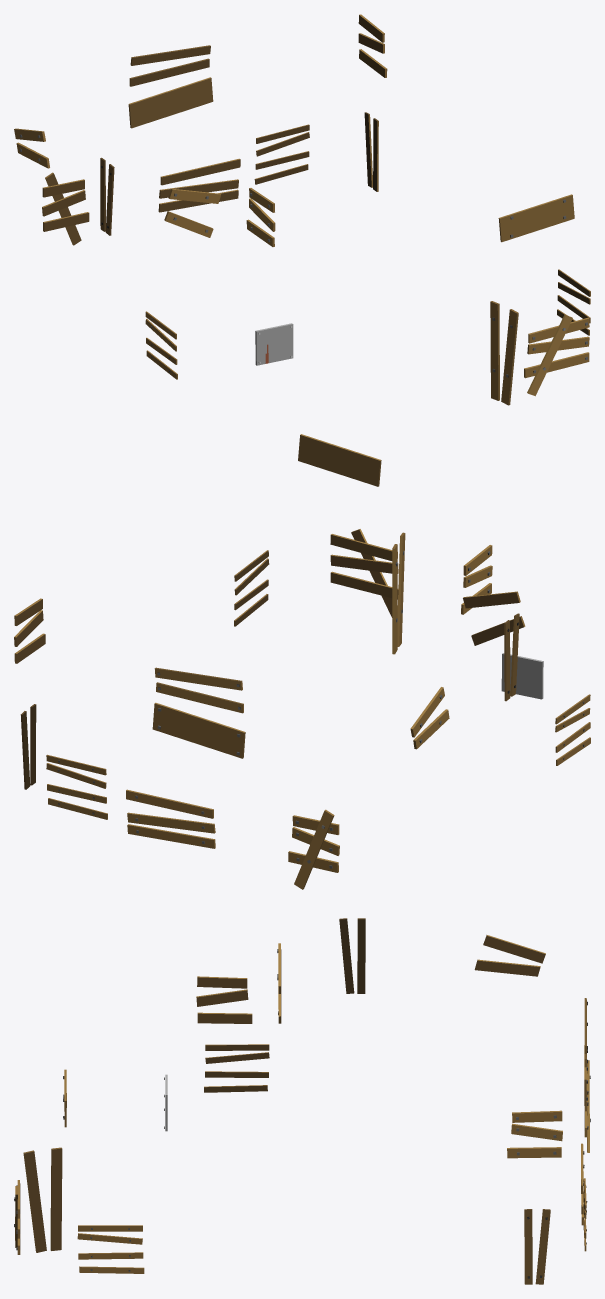
The model's file is SA_Bld_HouseLarge_Extras_02.gltf.
The picture shows the model from 3 angles, top to bottom: view 1: azimuth 30°, elevation 25°; view 2: azimuth 150°, elevation 25°; view 3: azimuth 270°, elevation 25°; orthographic projection. The views are drawn at different scales.
Parts seen in each view (by area): view 1: SA_Bld_HouseLarge_Extras_02; view 2: SA_Bld_HouseLarge_Extras_02; view 3: SA_Bld_HouseLarge_Extras_02.
Part boxes in pixels (bbox=[...]): SA_Bld_HouseLarge_Extras_02: bbox=[14, 14, 590, 405]; SA_Bld_HouseLarge_Extras_02: bbox=[14, 434, 590, 889]; SA_Bld_HouseLarge_Extras_02: bbox=[14, 918, 590, 1284].
Bounding box in the file's own units: 18.17 × 9.46 × 24.18.
1 material, 1 textured.
